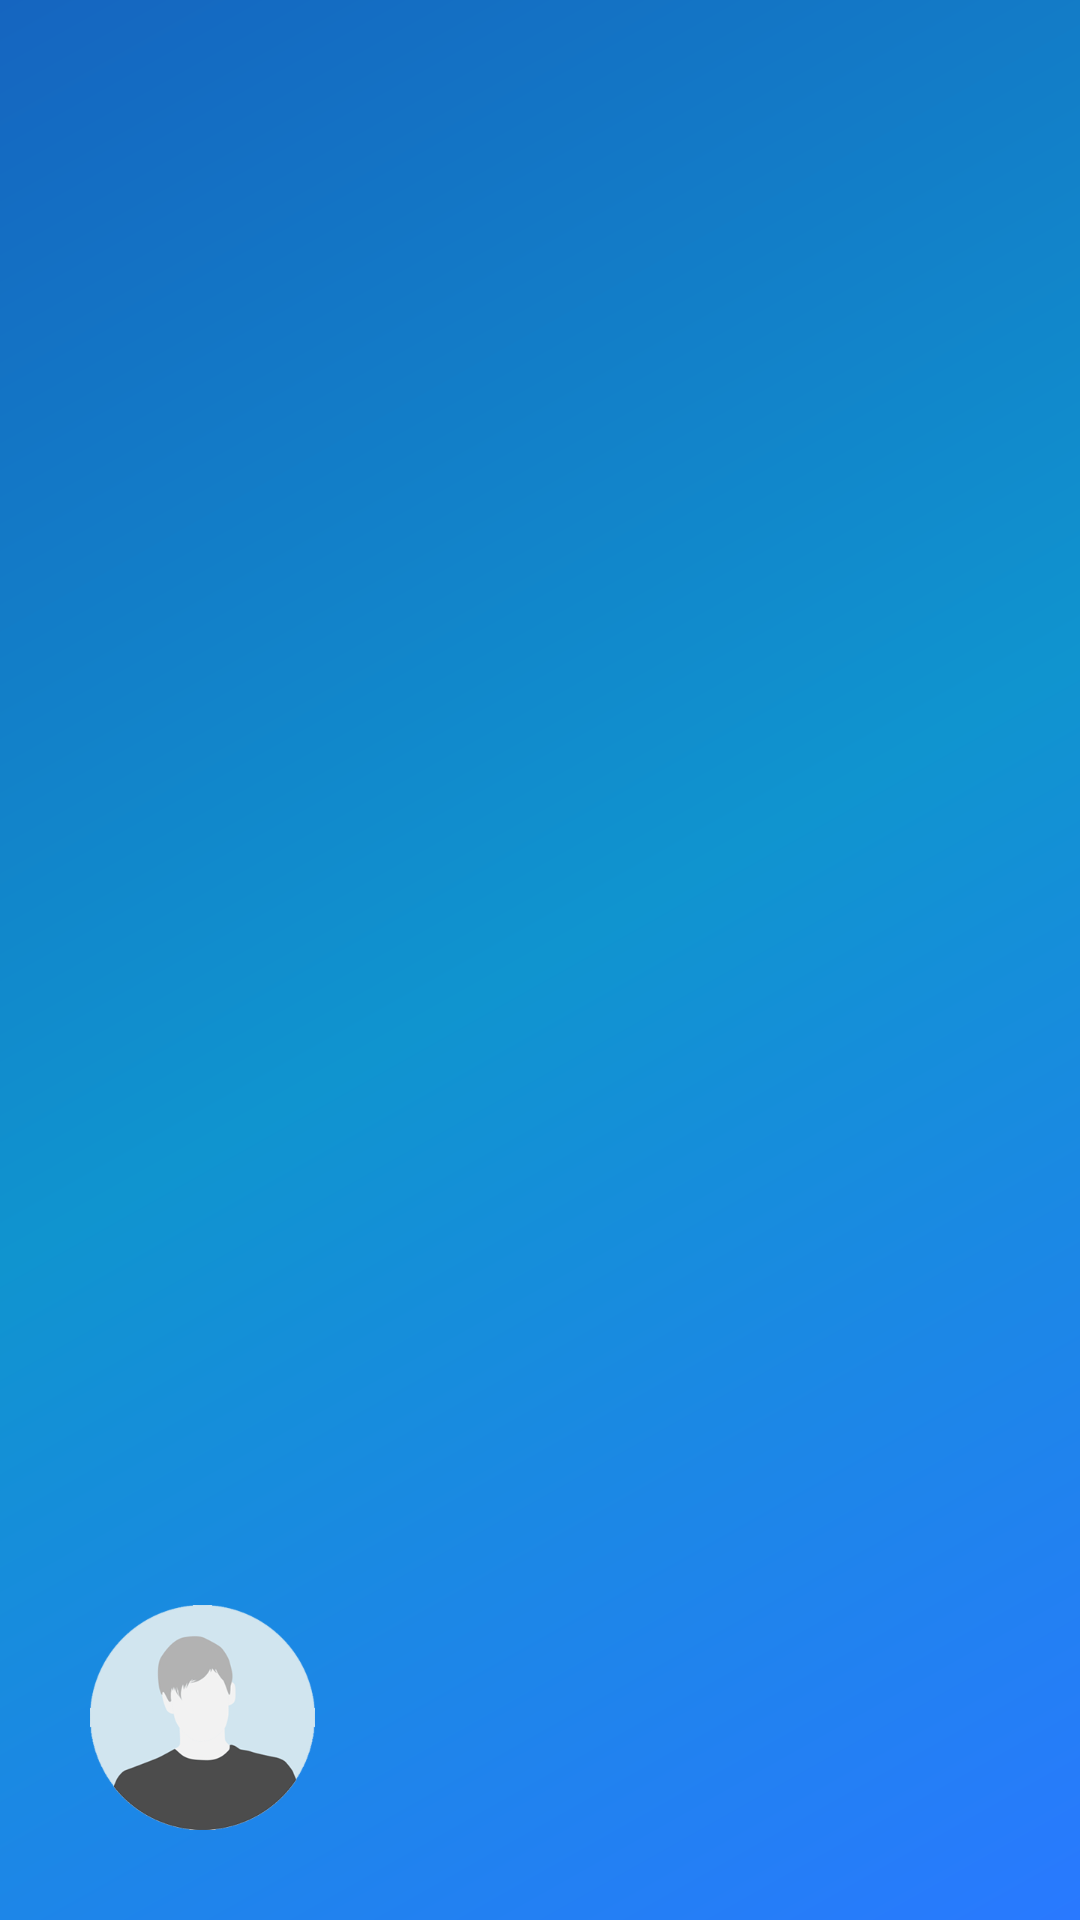

Where icons sit on this 1080px×1920px app screen, as bbox=(x1, y1, x2, y2):
user profile: bbox=(90, 1605, 315, 1830)
